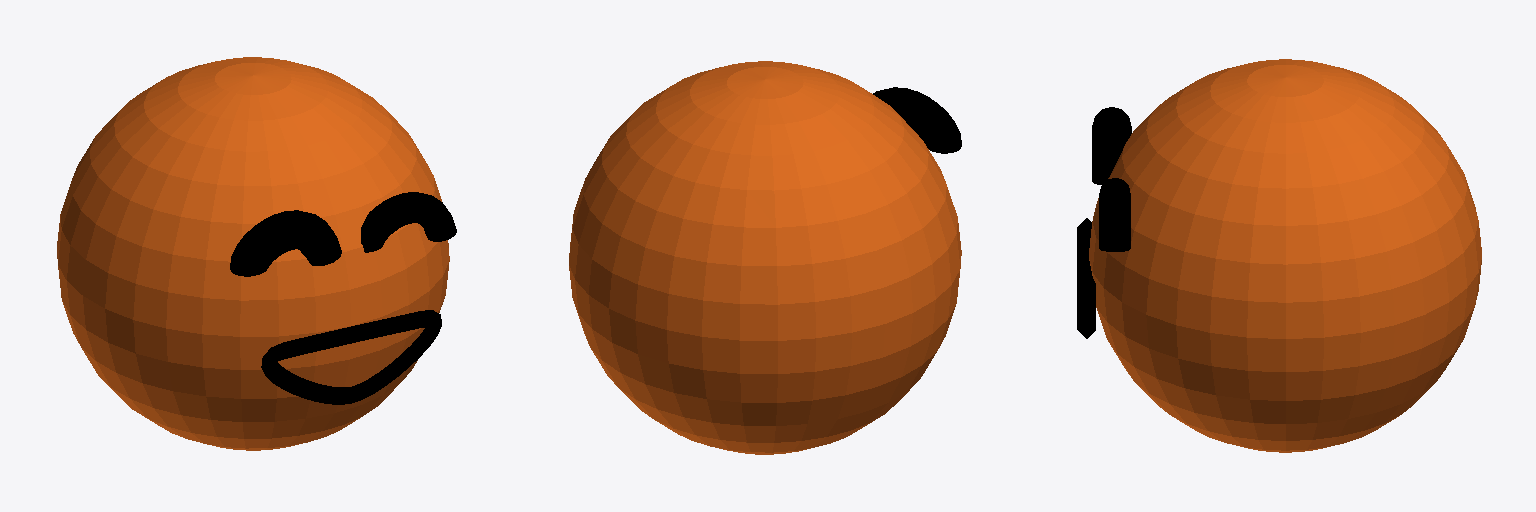
The picture shows the model from 3 angles: view 1: azimuth 30°, elevation 25°; view 2: azimuth 150°, elevation 25°; view 3: azimuth 270°, elevation 25°; orthographic projection.
Parts seen in each view (by area): view 1: 球, ベジエ円, ベジエカーブ, ベジエカーブ.001; view 2: 球, ベジエカーブ; view 3: 球, ベジエカーブ.001, ベジエカーブ, ベジエ円.
Boxes of the visible parts, x1=… form: 球: x1=57, y1=57, x2=449, y2=450; ベジエ円: x1=261, y1=310, x2=441, y2=404; ベジエカーブ: x1=230, y1=210, x2=341, y2=276; ベジエカーブ.001: x1=361, y1=192, x2=456, y2=252; 球: x1=569, y1=61, x2=961, y2=454; ベジエカーブ: x1=873, y1=87, x2=961, y2=153; 球: x1=1089, y1=59, x2=1481, y2=452; ベジエカーブ.001: x1=1099, y1=178, x2=1130, y2=251; ベジエカーブ: x1=1092, y1=107, x2=1131, y2=184; ベジエ円: x1=1077, y1=218, x2=1095, y2=338.
Bounding box in the file's own units: 1 × 1 × 1.03.
1 materials, 1 textured.